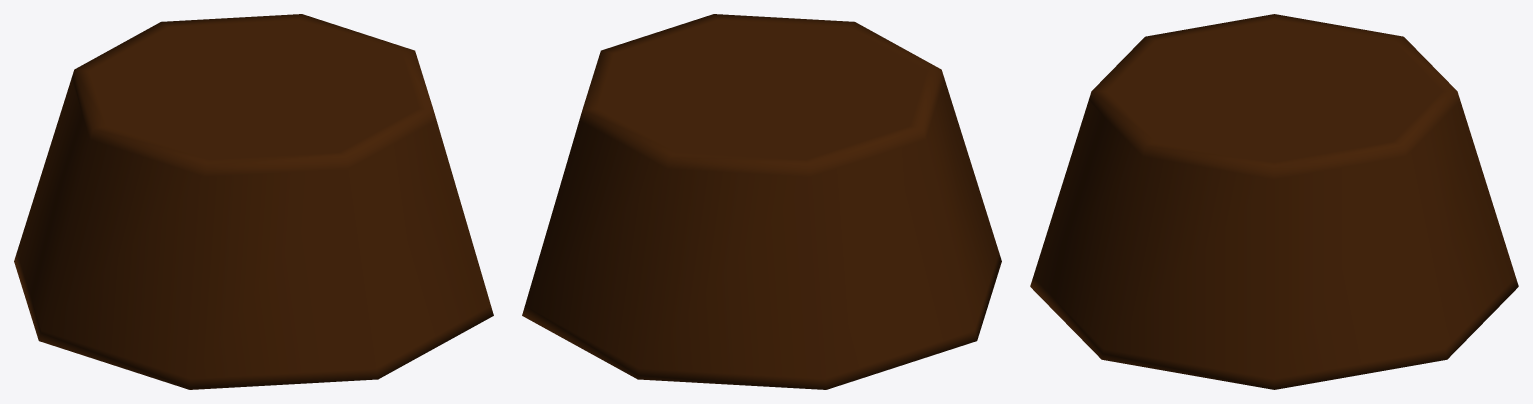
Rendered from palco_GEO.fbx.
The picture shows the model from 3 angles, left to right: view 1: azimuth 30°, elevation 25°; view 2: azimuth 150°, elevation 25°; view 3: azimuth 270°, elevation 25°; orthographic projection.
Visible parts, largest first — view 1: Cylinder.001; view 2: Cylinder.001; view 3: Cylinder.001.
Boxes of the visible parts, x1=… form: Cylinder.001: x1=14, y1=14, x2=493, y2=389; Cylinder.001: x1=522, y1=14, x2=1001, y2=389; Cylinder.001: x1=1030, y1=14, x2=1518, y2=389.
Size of the model in its own units: 70.69 by 31.18 by 70.69.
